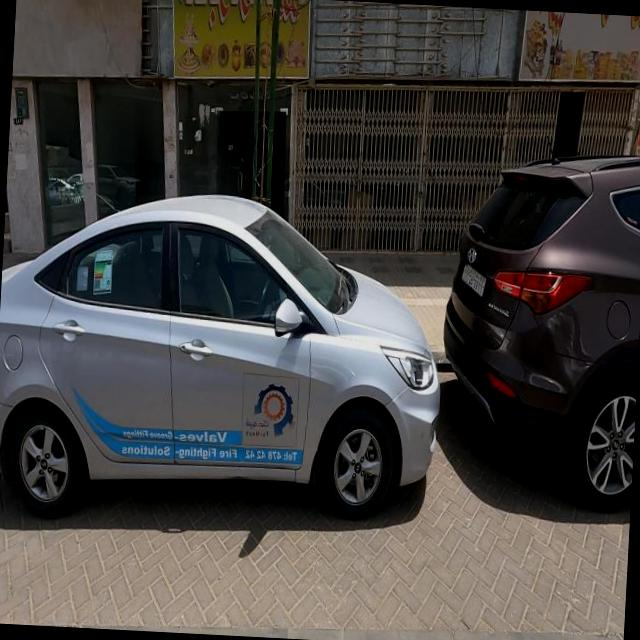debris: (192, 0, 632, 149), (9, 0, 213, 149)
